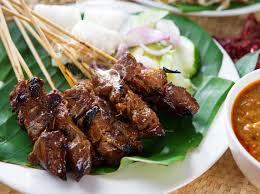sate: (3, 43, 211, 186)
